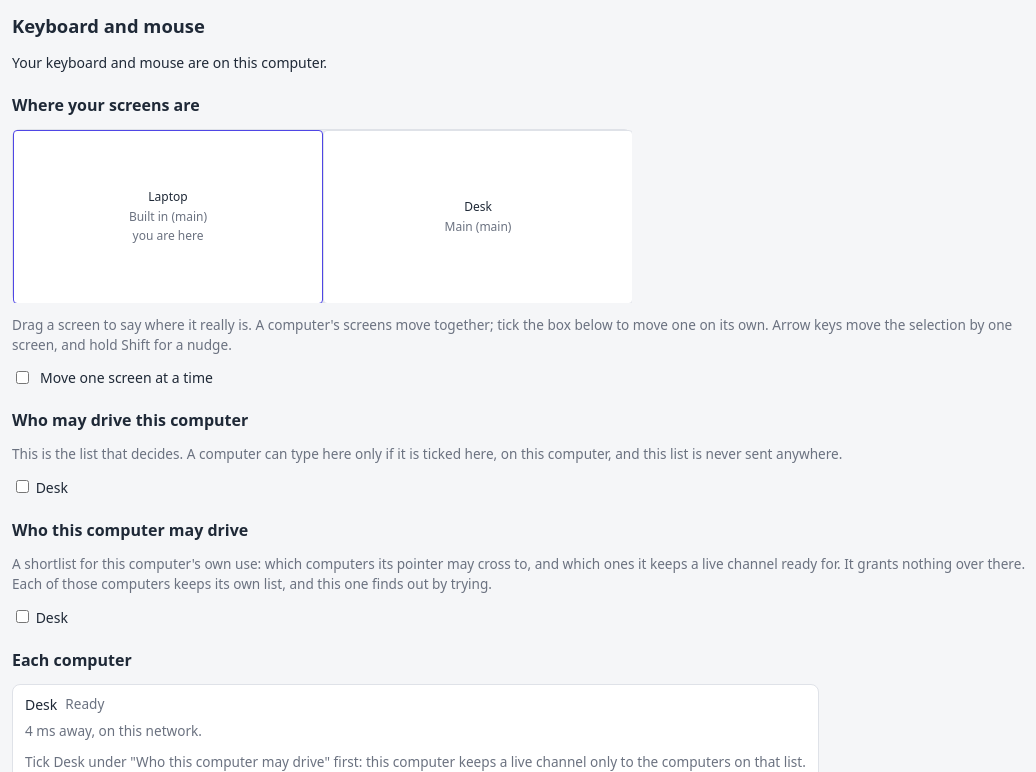
Test: a drag that would put two screens in the same place is refused, and nothing is sent
Press the mouse on the button "Desk Main (main)" at (478, 217), box [323,130,633,304]
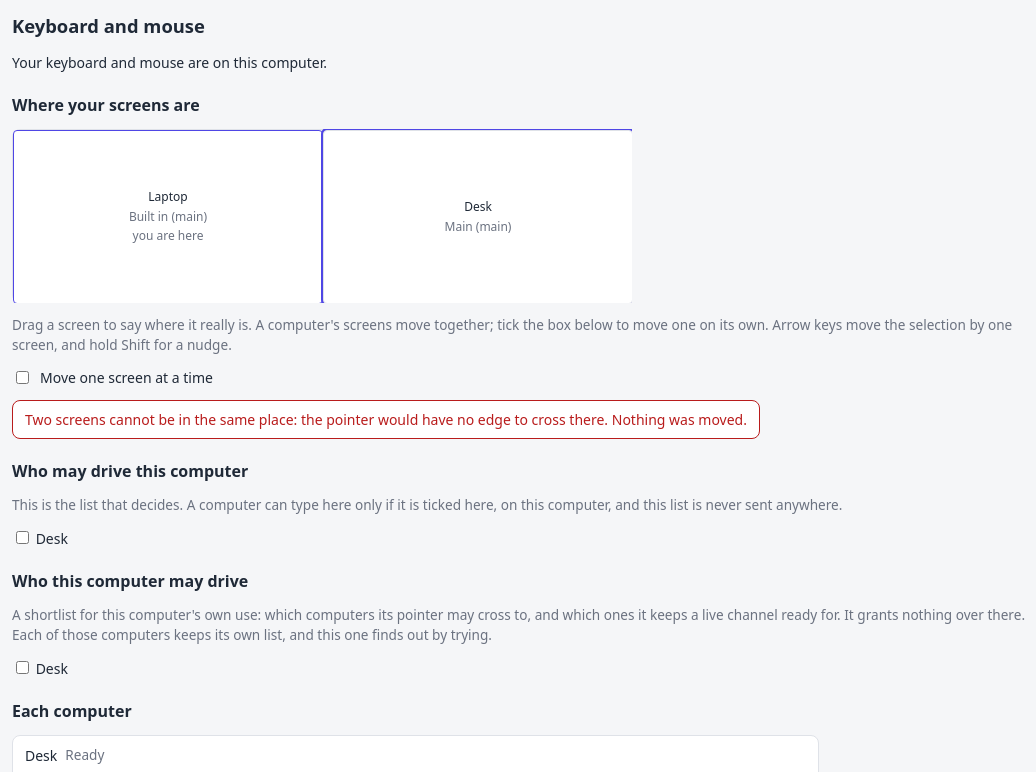
Result: the text "Two screens cannot be in the same place" is shown at [25,410,747,429]
